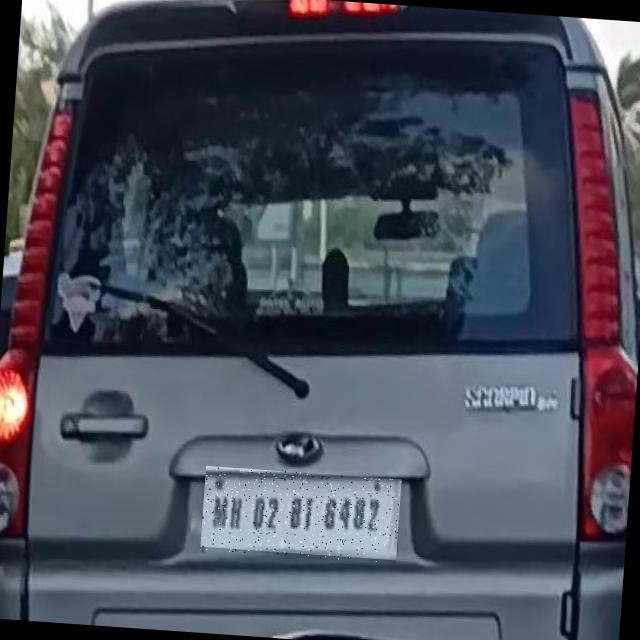Plate: (201, 467, 402, 564)
